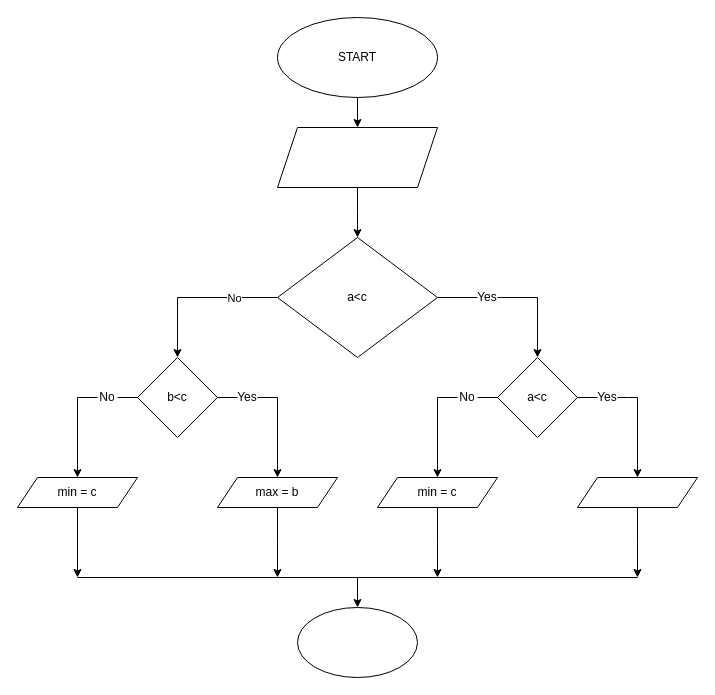
The diagram is 715 pixels wide and 695 high, and some of its shapes have lost their labels. The shapes that lost their labels are listed below. From the top down, each one's box as (x1, y1, x2, y2) in pixels, then its label:
(276, 126, 438, 188): INPUT a,b,c
(576, 476, 698, 508): max = a
(296, 606, 418, 678): STOP
